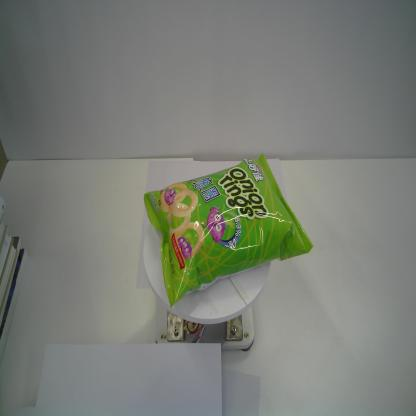Puffed Food: (144, 154, 314, 308)
